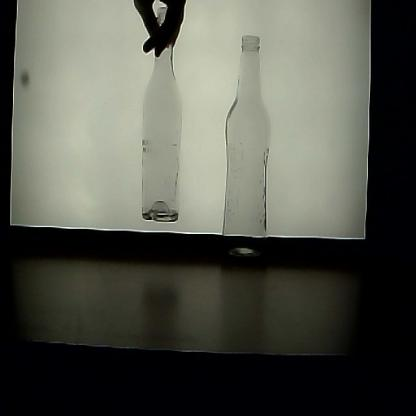Can: (223, 33, 270, 267), (140, 6, 183, 226)
